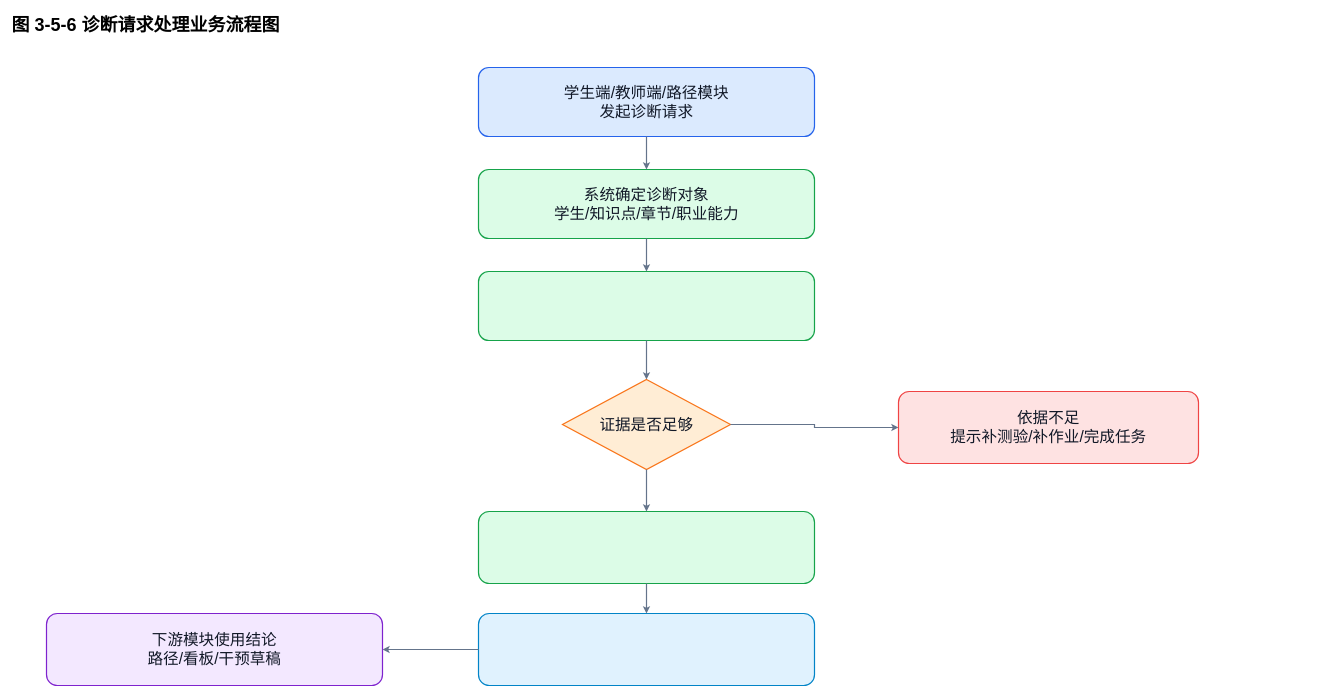
This 1328x696 diagram has some shape labels left out. Each missing label, with the centre of its shape:
系统按端裁剪展示 学生温和说明/教师证据下钻: the point at 646,649
系统生成诊断结论 薄弱点/原因/依据等级/建议动作: the point at 646,547
系统读取证据 画像/测验/作业/代码题/资源学习: the point at 646,306
